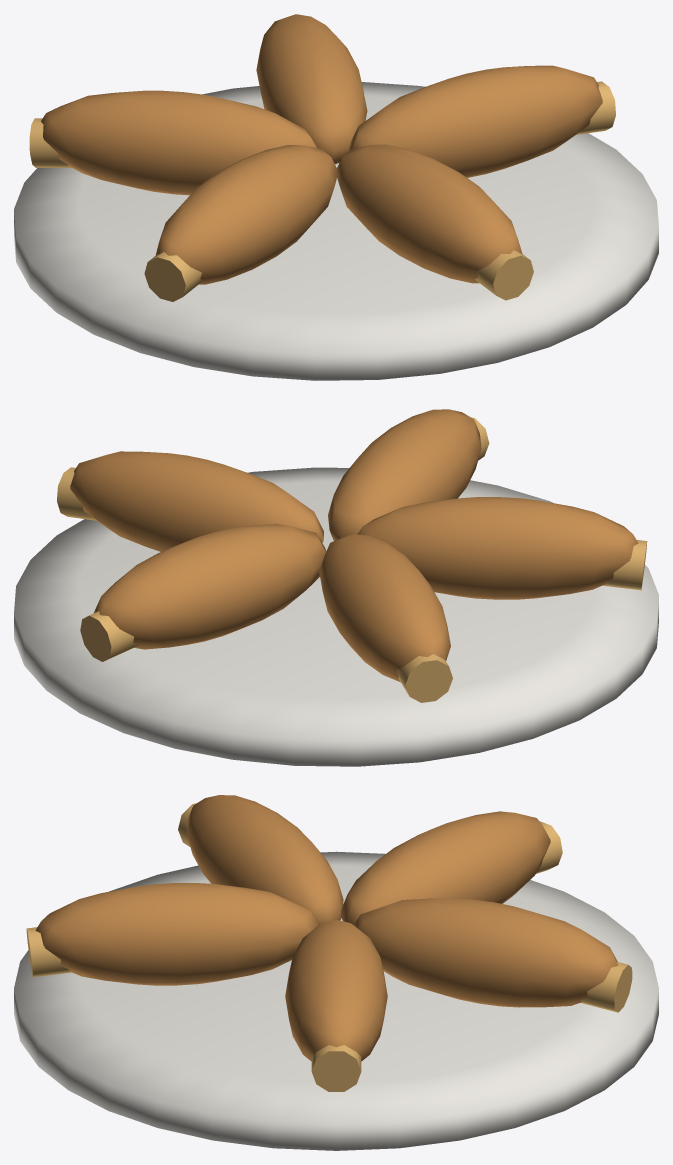
Rendered from dish_tebasaki.glb.
3 renders of one model, top to bottom at view 1: azimuth 30°, elevation 25°; view 2: azimuth 150°, elevation 25°; view 3: azimuth 270°, elevation 25°, orthographic.
Visible parts, largest first — view 1: dish_tebasaki_Warm_white_coating, dish_tebasaki_Laminated_pastry, dish_tebasaki_Melon_bread_crust; view 2: dish_tebasaki_Warm_white_coating, dish_tebasaki_Laminated_pastry, dish_tebasaki_Melon_bread_crust; view 3: dish_tebasaki_Warm_white_coating, dish_tebasaki_Laminated_pastry, dish_tebasaki_Melon_bread_crust.
Part boxes in pixels (x1,y1,x2,y2): dish_tebasaki_Warm_white_coating: (14, 82, 658, 380); dish_tebasaki_Laminated_pastry: (41, 14, 602, 284); dish_tebasaki_Melon_bread_crust: (29, 81, 615, 301); dish_tebasaki_Warm_white_coating: (14, 467, 658, 766); dish_tebasaki_Laminated_pastry: (70, 409, 638, 682); dish_tebasaki_Melon_bread_crust: (57, 417, 647, 702); dish_tebasaki_Warm_white_coating: (14, 851, 658, 1150); dish_tebasaki_Laminated_pastry: (35, 795, 617, 1061); dish_tebasaki_Melon_bread_crust: (26, 803, 632, 1091).
Bounding box in the file's own units: 0.44 × 0.125 × 0.44.
